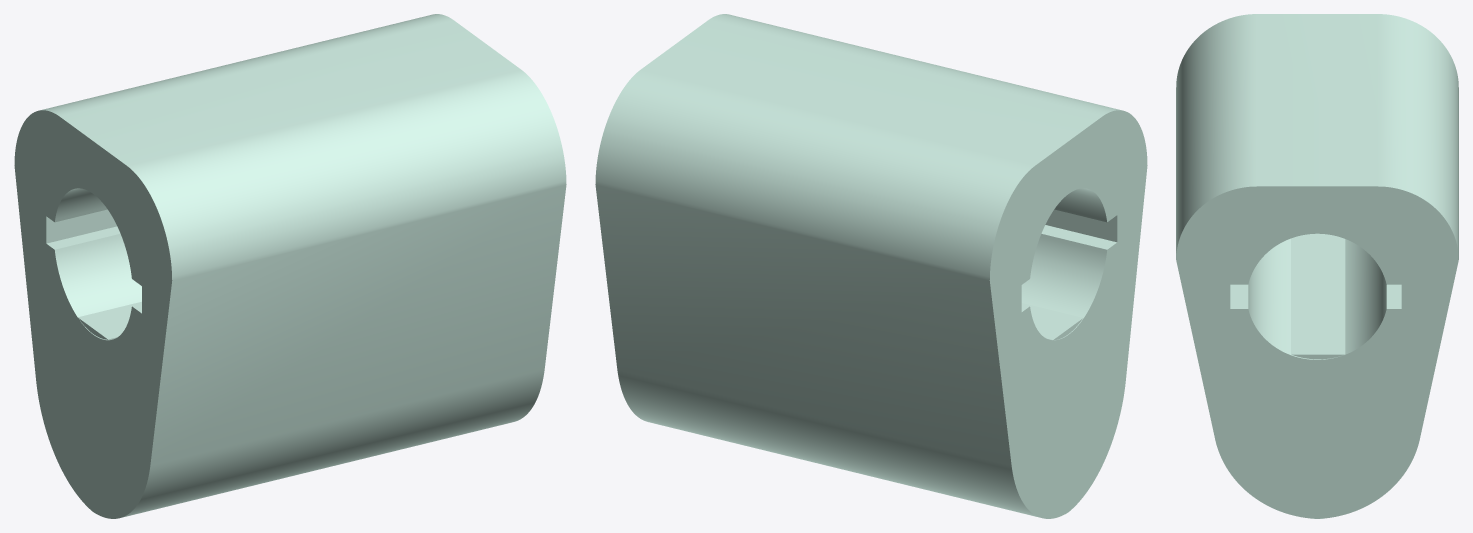
3 renders of one model, left to right at view 1: azimuth 30°, elevation 25°; view 2: azimuth 150°, elevation 25°; view 3: azimuth 270°, elevation 25°, orthographic. The views are drawn at different scales.
Parts seen in each view (by area): view 1: Renderer Node; view 2: Renderer Node; view 3: Renderer Node.
Part boxes in pixels (left/top/right/bottom): Renderer Node: left=14, top=14, right=566, bottom=518; Renderer Node: left=595, top=14, right=1147, bottom=518; Renderer Node: left=1176, top=14, right=1458, bottom=518.
Bounding box in the file's own units: 0.7031 × 0.6321 × 0.487.
